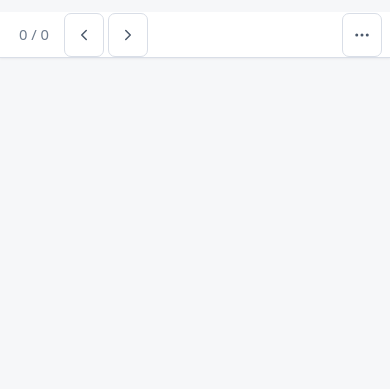
Scenario: AppTopbar 手机端 ⋯ 面板 › ⋯ 切换 more-open 与 aria-expanded，再次点击关闭
This screenshot has width=390, height=389.
Click the button with class "more-trigger" at (362, 34), box [342,12,382,56]
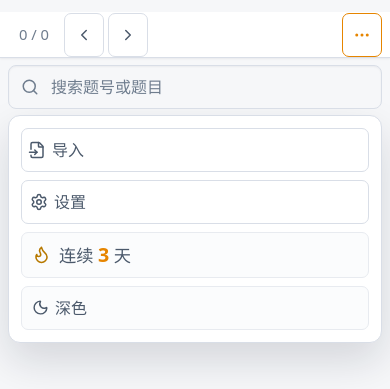
Check: the button with class "more-trigger" is expanded
Click the button with class "more-trigger" at (362, 34), box [342,12,382,56]
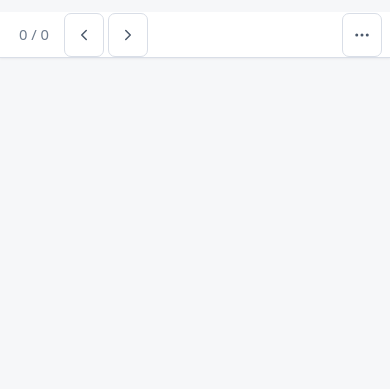
Check: the button with class "more-trigger" is collapsed, box [342,12,382,56]
